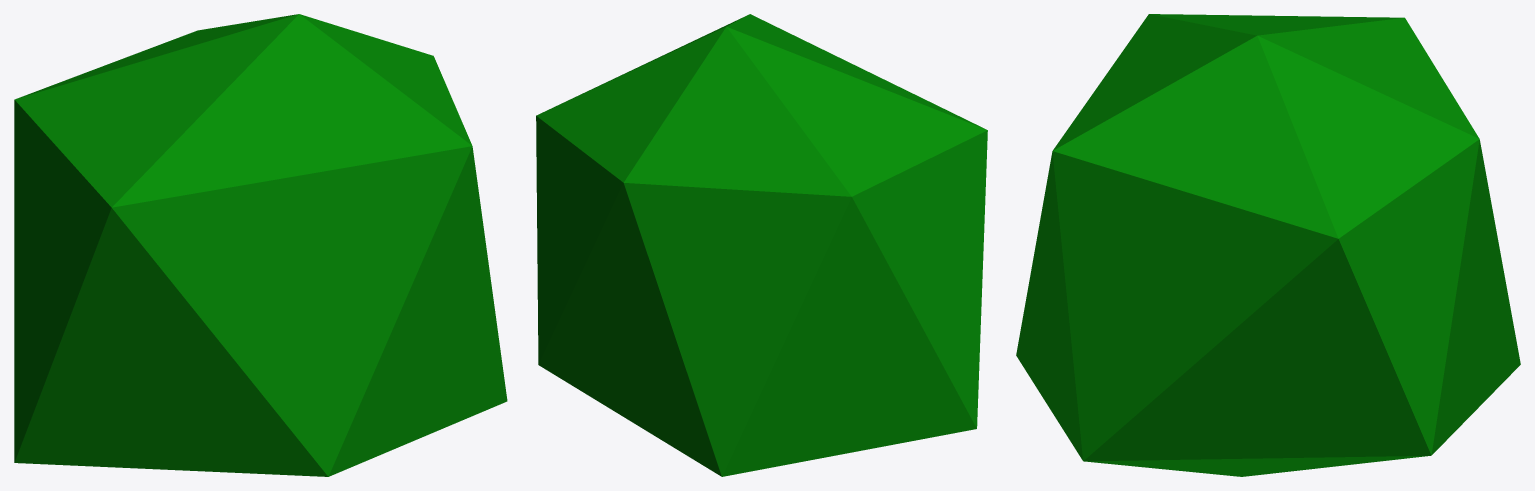
Rendered from Bush_1a.fbx.
3 views of the same model, side by side, from view 1: azimuth 30°, elevation 25°; view 2: azimuth 150°, elevation 25°; view 3: azimuth 270°, elevation 25° (orthographic). The views are drawn at different scales.
Parts seen in each view (by area): view 1: Bush_1a; view 2: Bush_1a; view 3: Bush_1a.
Part boxes in pixels (x1=…): Bush_1a: x1=14, y1=14, x2=507, y2=476; Bush_1a: x1=536, y1=14, x2=987, y2=476; Bush_1a: x1=1016, y1=14, x2=1520, y2=476.
Size of the model in its own units: 177 by 165 by 165.
